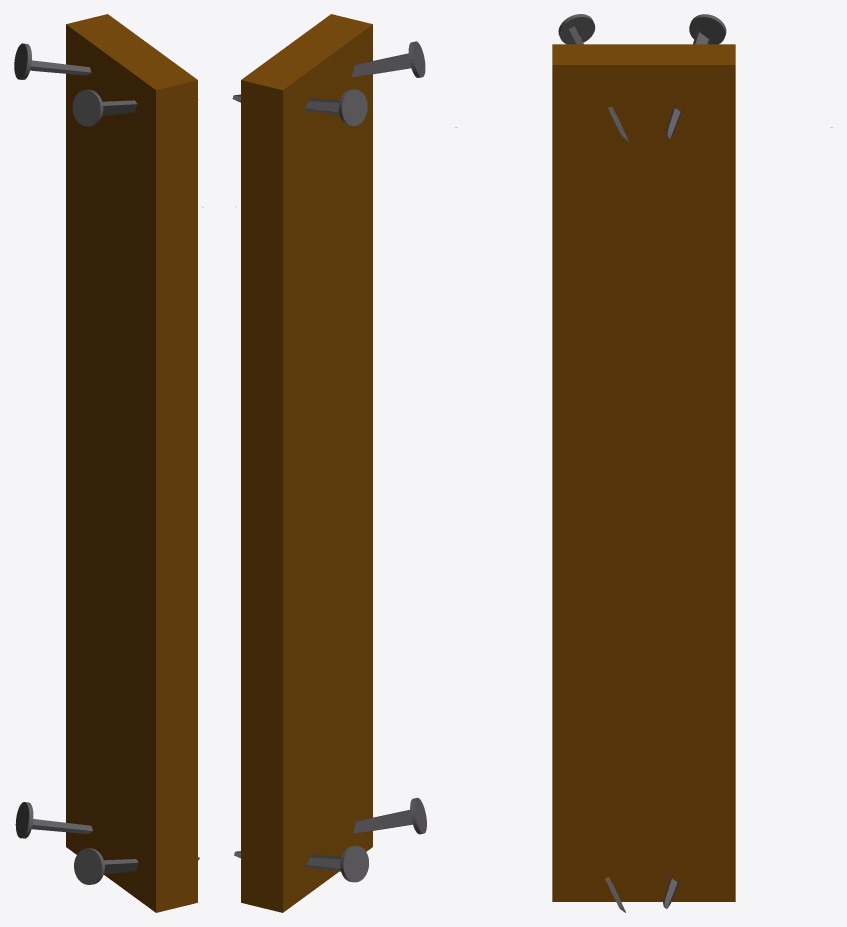
File: george.glb
3 views of the same model, side by side, from view 1: azimuth 30°, elevation 25°; view 2: azimuth 150°, elevation 25°; view 3: azimuth 270°, elevation 25° (orthographic).
Visible parts, largest first — view 1: Cube.002, Cube.003, Cube.001; view 2: Cube.002, Cube.001, Cube.003; view 3: Cube.002, Cube.001.
Boxes of the visible parts, x1,y1,x2,y2 form: Cube.002: (66, 14, 203, 912); Cube.003: (15, 802, 199, 884); Cube.001: (14, 43, 198, 126); Cube.002: (236, 14, 372, 912); Cube.001: (232, 41, 425, 125); Cube.003: (234, 797, 426, 882); Cube.002: (455, 44, 832, 901); Cube.001: (558, 14, 726, 142).
Size of the model in its own units: 0.4225 by 2.26 by 0.9205.
